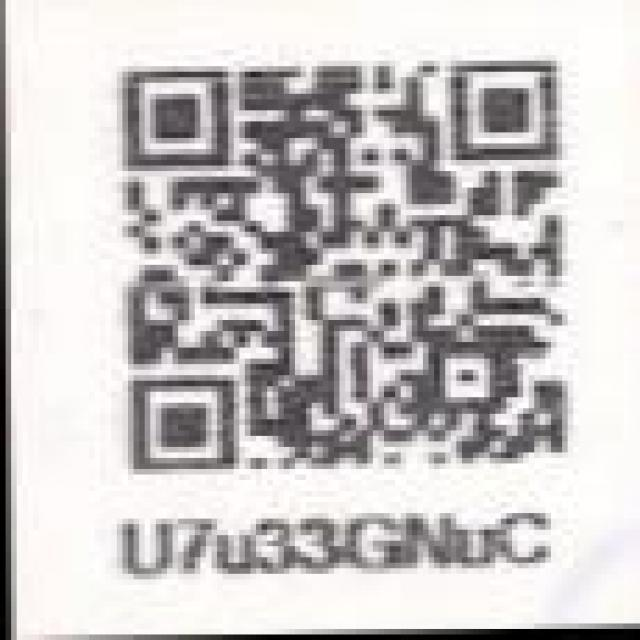QRCode: (107, 51, 575, 493)
